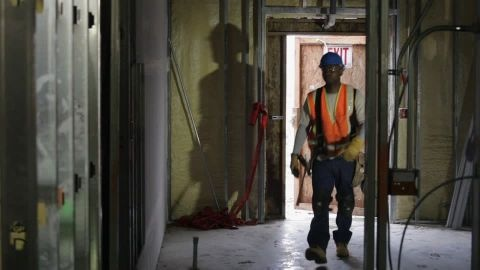blue: (316, 51, 346, 86)
